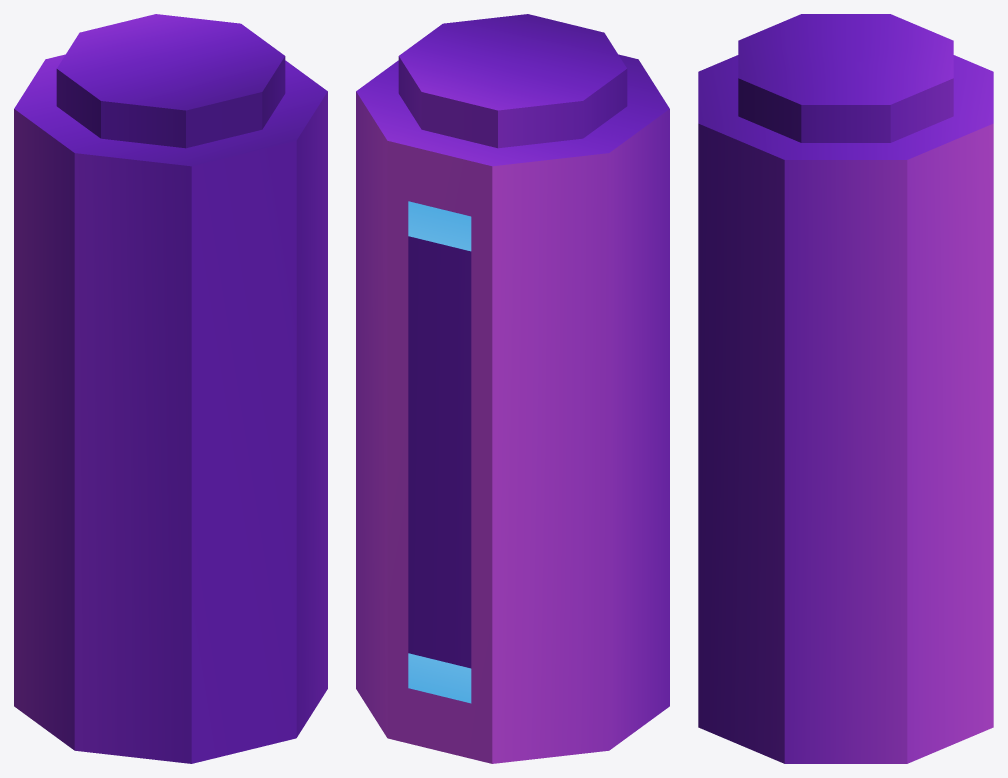
Rendered from Grenade_A_mesh.fbx.
3 views of the same model, side by side, from view 1: azimuth 30°, elevation 25°; view 2: azimuth 150°, elevation 25°; view 3: azimuth 270°, elevation 25° (orthographic).
Parts seen in each view (by area): view 1: Grenade_A_mesh; view 2: Grenade_A_mesh; view 3: Grenade_A_mesh.
Boxes of the visible parts, x1,y1,x2,y2 form: Grenade_A_mesh: [14, 14, 327, 763]; Grenade_A_mesh: [356, 14, 669, 763]; Grenade_A_mesh: [698, 14, 993, 763].
Bounding box in the file's own units: 5.21 × 12.48 × 5.21.
Materials: 2 (1 with a texture image).
